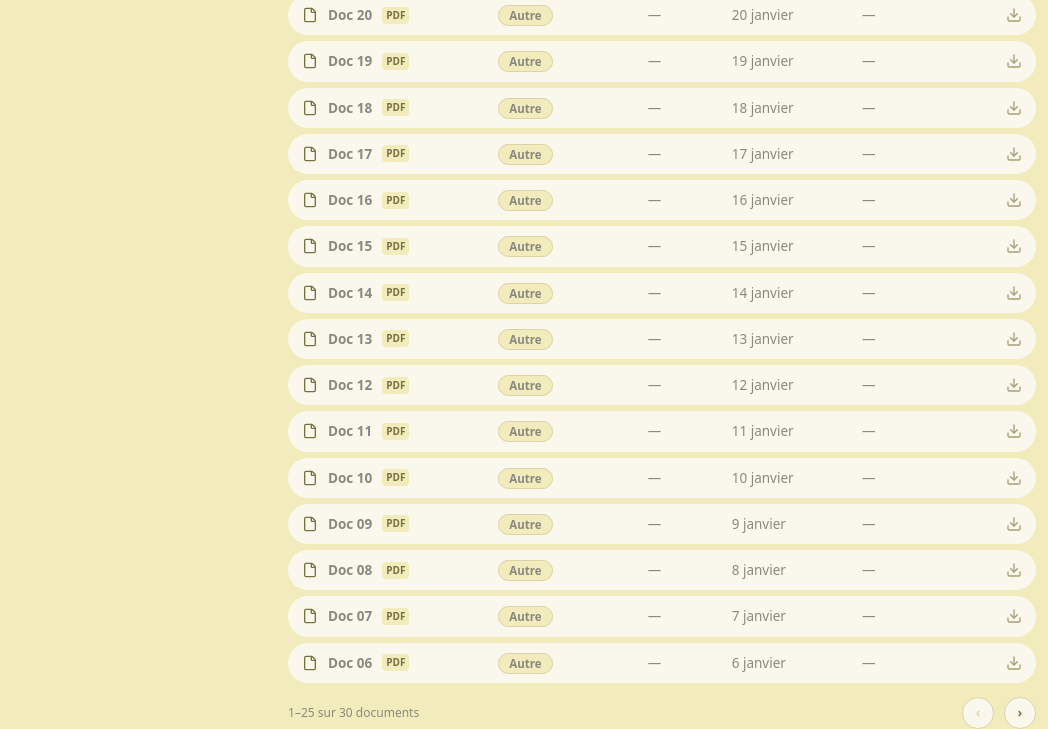
la pagination coupe à 25 et navigue
(page scrolled)
Expected: the text "1–25 sur 30 documents" is shown, 288,705 -> 419,721
Expected: the text "Doc 05" is not shown
Click the button named "Page suivante": (1020, 713) 1004,697 -> 1036,728
(page scrolled)
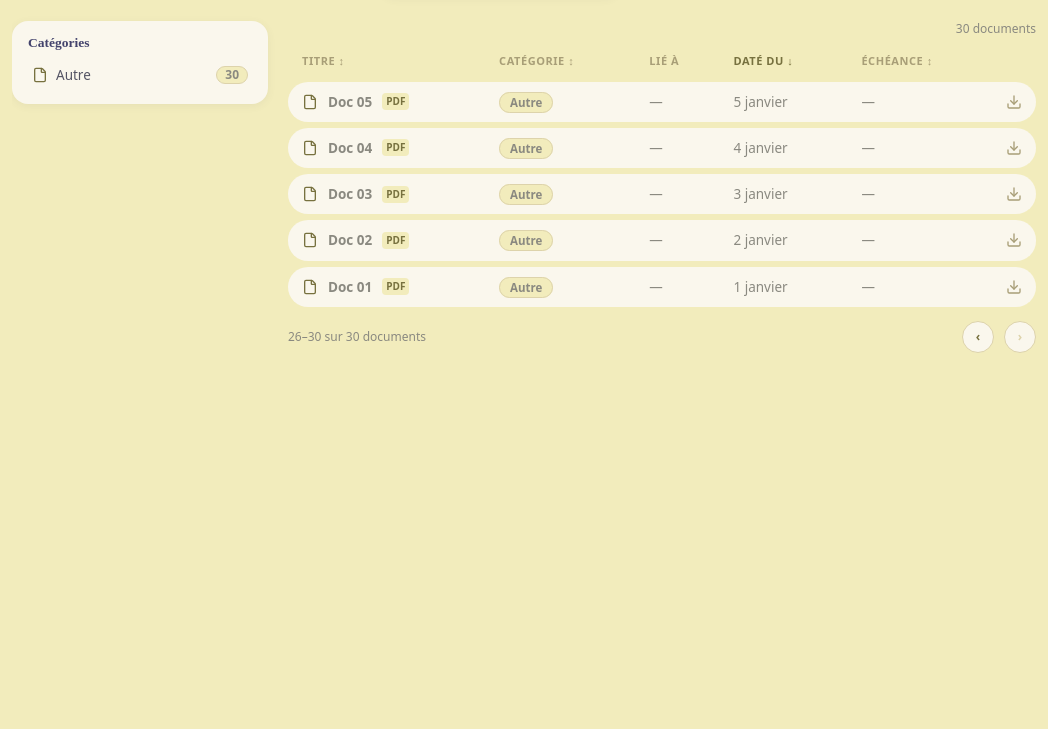
Expected: the number of rows is 6, 288,53 -> 1036,76; 288,82 -> 1036,122; 288,128 -> 1036,168; 288,174 -> 1036,214; 288,220 -> 1036,261; 288,266 -> 1036,307
Result: the text "26–30 sur 30 documents" is shown at 288,329 -> 426,345
Result: the text "Doc 05" is shown at 328,92 -> 372,112
